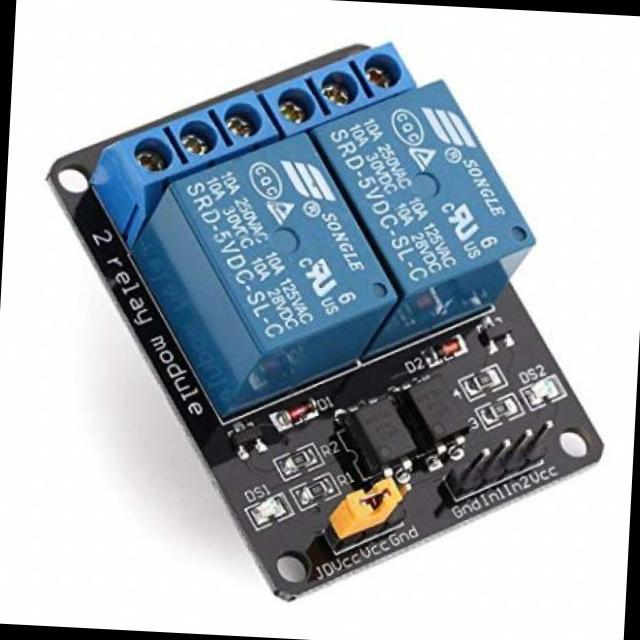IC: (336, 397, 423, 481), (400, 373, 472, 450)
LED: (244, 491, 287, 525), (528, 376, 560, 404)
connector: (93, 35, 423, 203), (457, 412, 554, 496), (334, 476, 415, 554)
diode: (280, 394, 322, 432), (429, 331, 468, 370)
resistor: (278, 444, 316, 475), (464, 368, 499, 396), (296, 476, 332, 502), (484, 398, 519, 420)
transistor: (227, 418, 268, 466), (474, 313, 516, 353)
